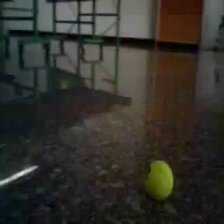tennis: (143, 161, 175, 200)
